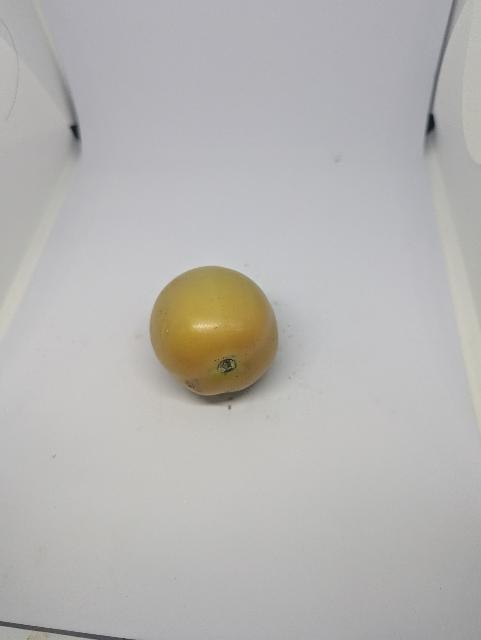turning: (139, 260, 286, 408)
